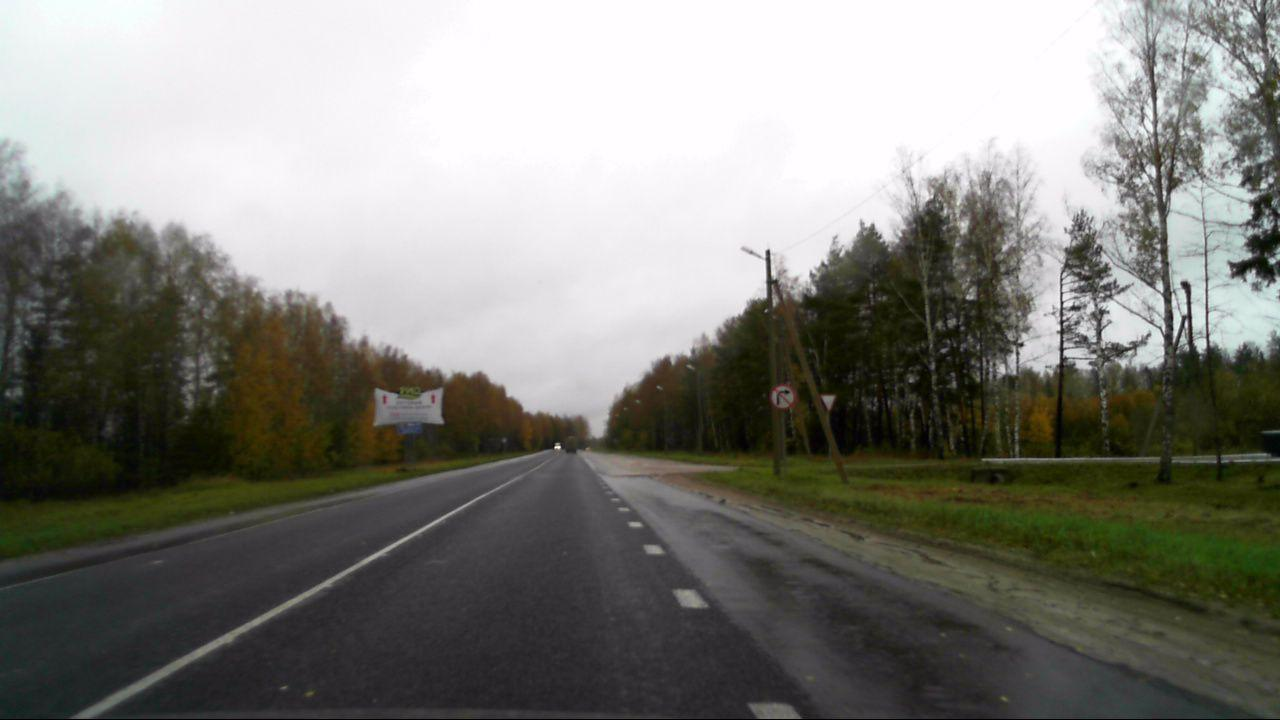road_sign: (769, 383, 796, 411), (818, 394, 837, 410)
